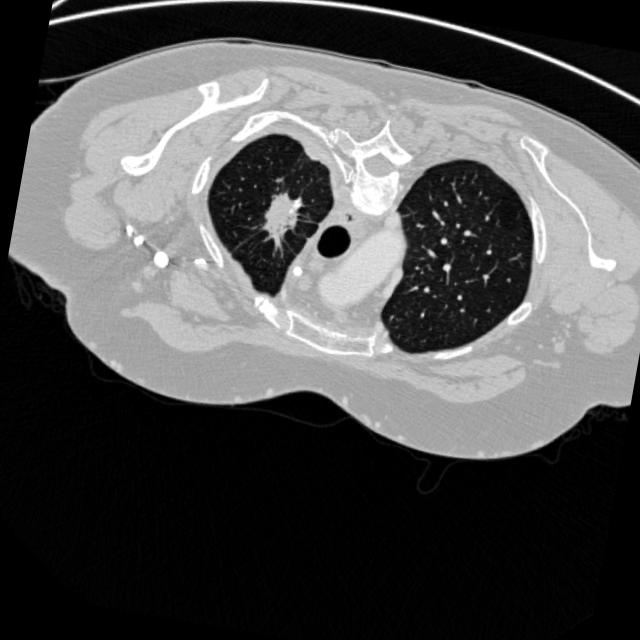nodule: (242, 174, 322, 255)
